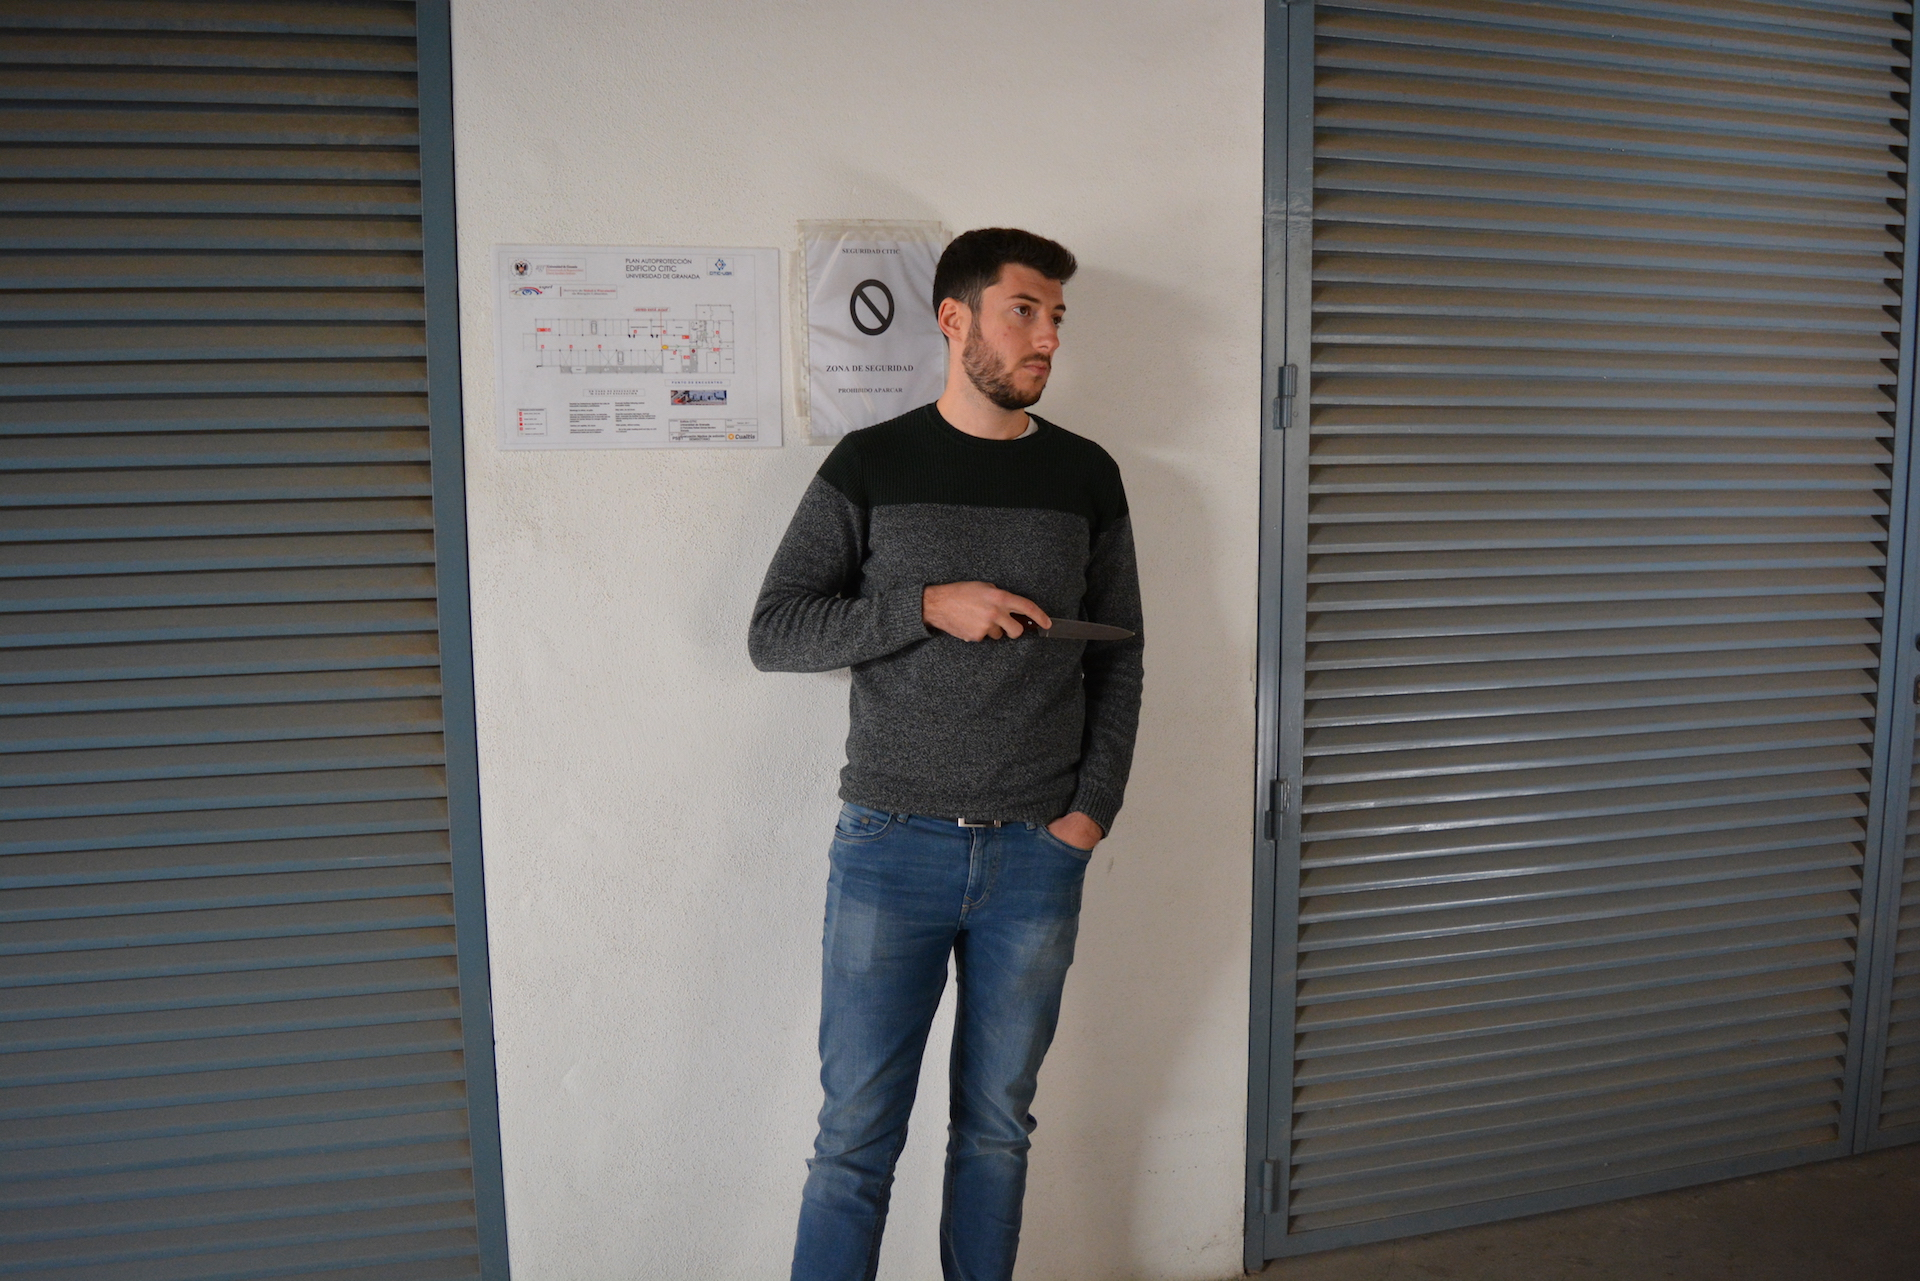knife: (999, 588, 1144, 648)
